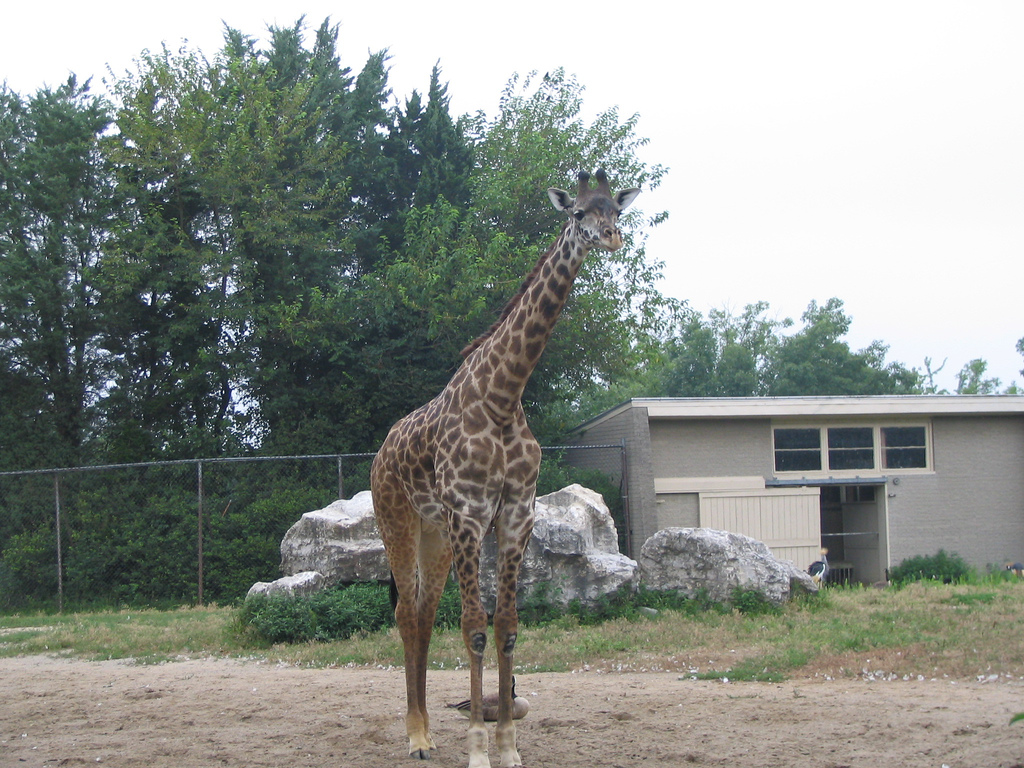giraffe: (315, 129, 656, 766)
